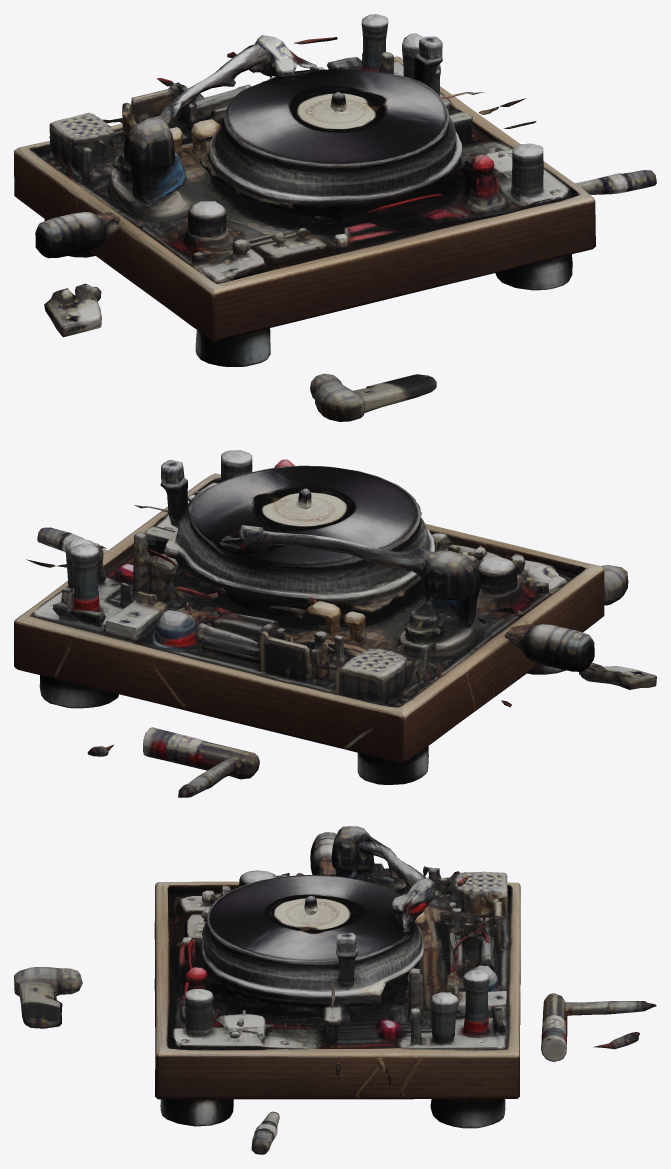
Rendered from record.glb.
3 views of the same model, one above another, from view 1: azimuth 30°, elevation 25°; view 2: azimuth 150°, elevation 25°; view 3: azimuth 270°, elevation 25° (orthographic). The views are drawn at different scales.
Visible parts, largest first — view 1: world; view 2: world; view 3: world.
Boxes of the visible parts, <box> form: world: <box>14,14,656,421</box>; world: <box>14,450,656,797</box>; world: <box>14,826,656,1154</box>.
Size of the model in its own units: 0.9626 by 0.2939 by 0.9754.
Materials: 1 (1 with a texture image).
